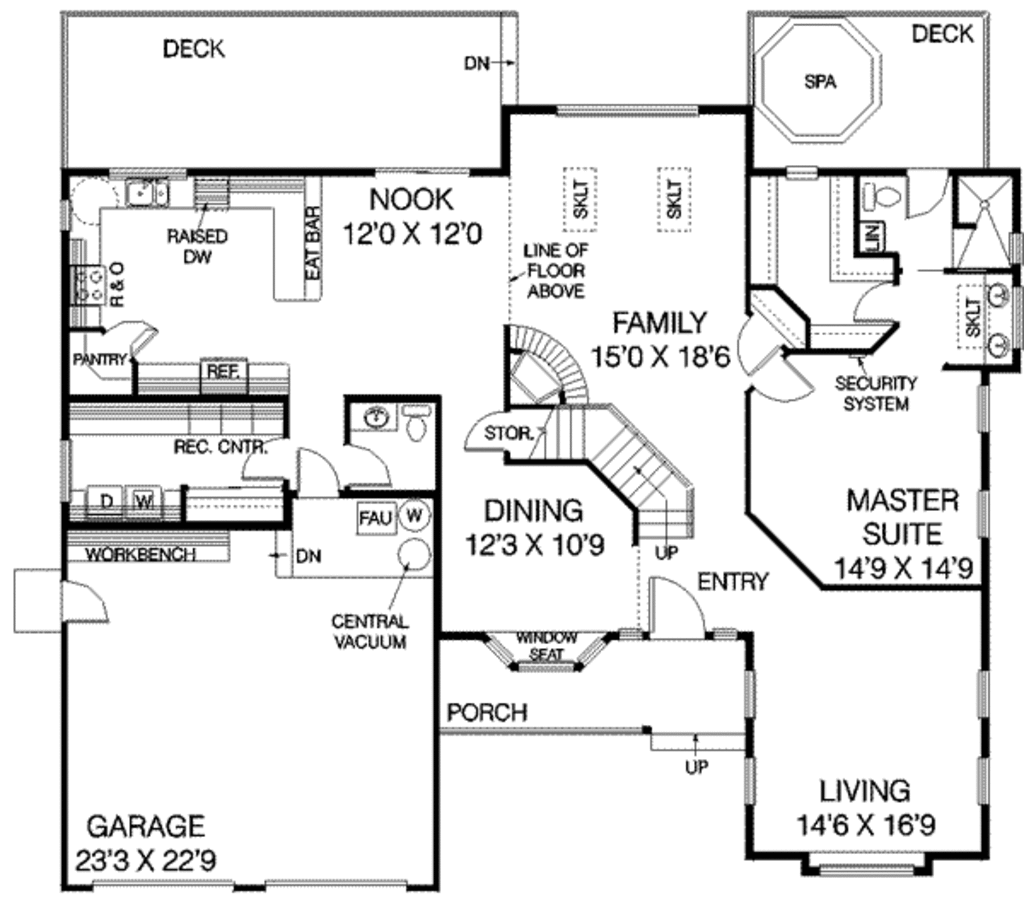door: (644, 577, 712, 644), (739, 359, 818, 409), (729, 308, 788, 372), (91, 309, 163, 357), (230, 432, 289, 484), (56, 575, 115, 627), (289, 445, 341, 502), (905, 166, 951, 223), (345, 442, 400, 489), (846, 280, 895, 322)
large_sink: (857, 173, 903, 219), (402, 403, 437, 448)
small_sink: (984, 272, 1024, 360), (354, 406, 397, 432)
stairs: (507, 406, 707, 550)
twin_sink: (116, 170, 175, 208)
window: (548, 97, 702, 125), (803, 848, 923, 883), (81, 875, 246, 899), (967, 374, 994, 437), (971, 750, 998, 809), (972, 482, 994, 551), (737, 667, 764, 722), (746, 751, 773, 806), (372, 168, 472, 182), (976, 660, 994, 726)
windows: (478, 636, 603, 675)
